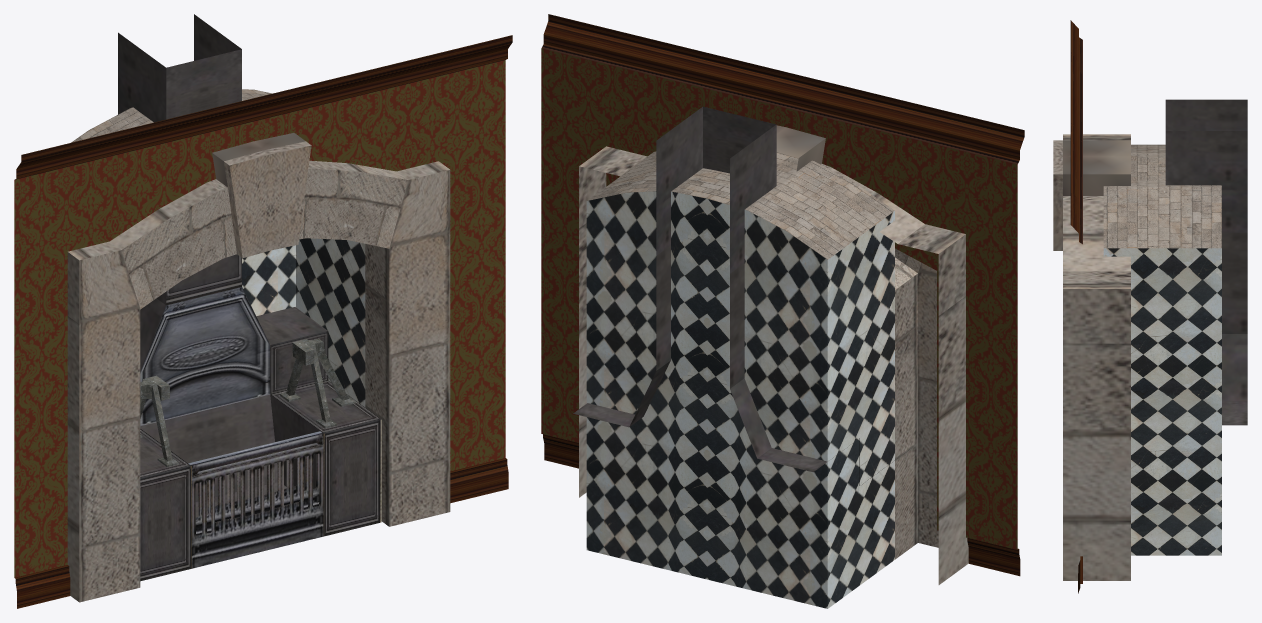
File: SmokePIT.fbx
3 views of the same model, side by side, from view 1: azimuth 30°, elevation 25°; view 2: azimuth 150°, elevation 25°; view 3: azimuth 270°, elevation 25° (orthographic). The views are drawn at different scales.
Visible parts, largest first — view 1: Plane.005; view 2: Plane.005; view 3: Plane.005.
Boxes of the visible parts, x1,y1,x2,y2 form: Plane.005: (14, 14, 512, 608); Plane.005: (541, 14, 1024, 608); Plane.005: (1053, 20, 1247, 593).
Bounding box in the file's own units: 419 × 373 × 168.
